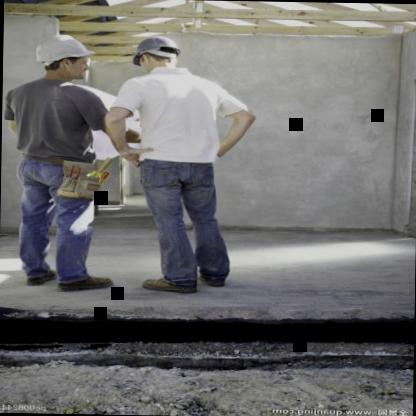helmet: (25, 25, 100, 89), (122, 33, 186, 78)
